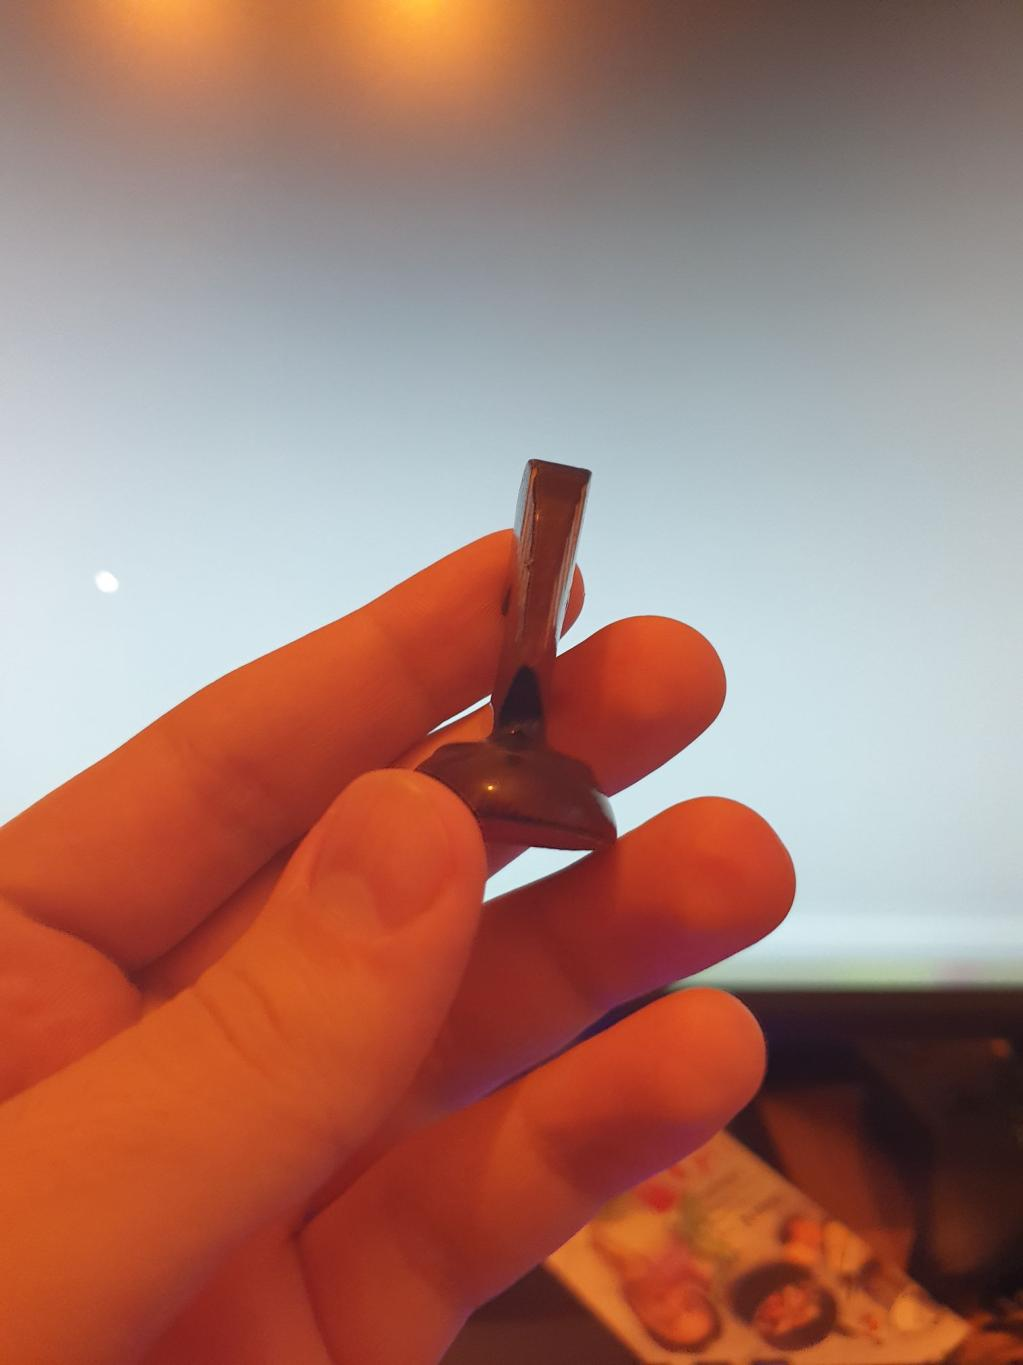bknight: (412, 456, 622, 854)
